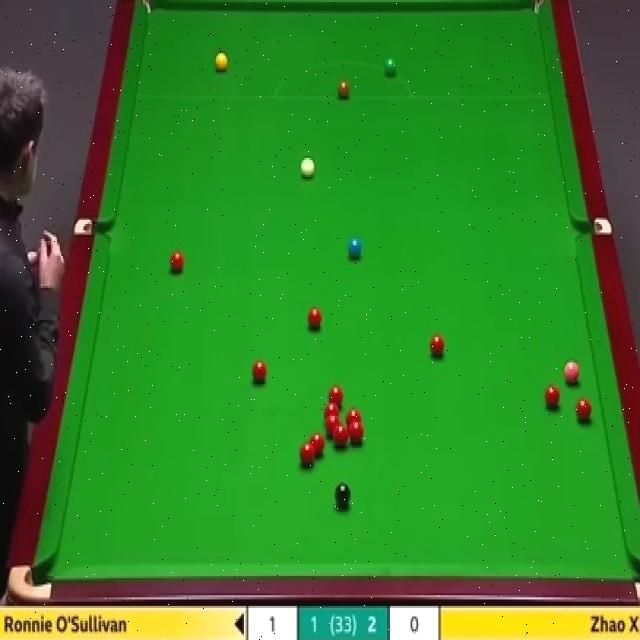black-ball: (334, 482, 352, 505)
blue-ball: (346, 237, 364, 260)
brown-ball: (336, 79, 350, 100)
green-ball: (384, 54, 396, 76)
pink-ball: (562, 360, 582, 385)
red-ball: (544, 382, 560, 409), (574, 397, 592, 421), (300, 440, 316, 467), (306, 306, 322, 331), (309, 432, 325, 457), (428, 333, 445, 356), (251, 358, 267, 382), (350, 419, 364, 445), (328, 384, 343, 407), (169, 252, 184, 274), (334, 424, 348, 447), (323, 402, 339, 421), (326, 415, 340, 436), (346, 407, 362, 423)
white-ball: (300, 156, 315, 178)
yellow-ball: (215, 52, 228, 74)
